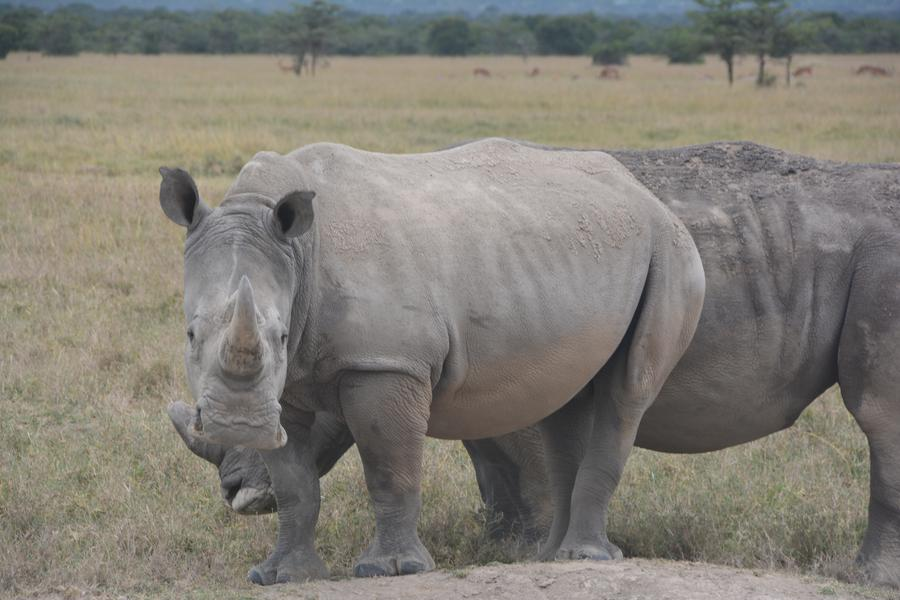rhino: (189, 152, 691, 479), (695, 160, 895, 450)
